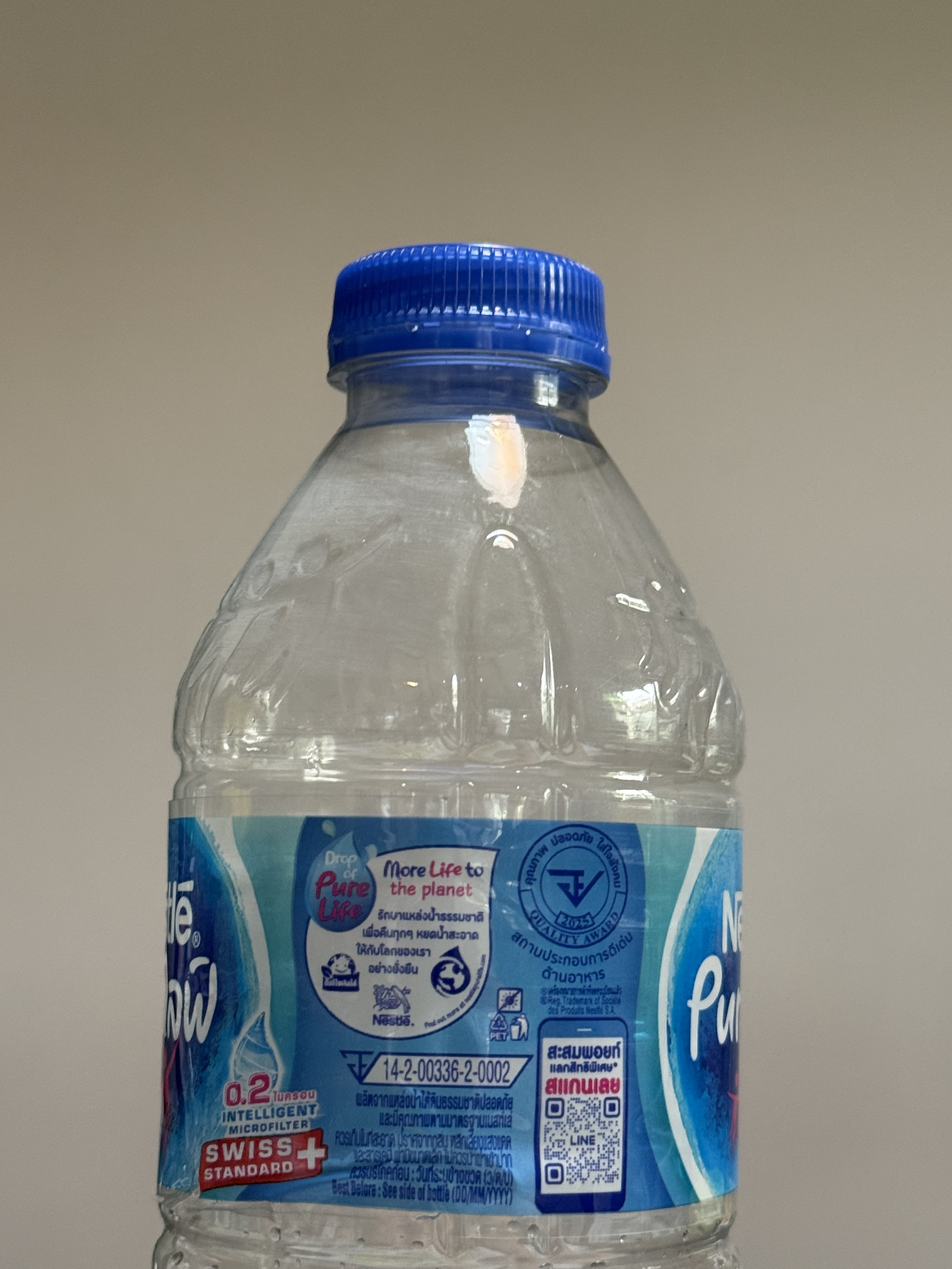closed_cap: (323, 237, 614, 393)
